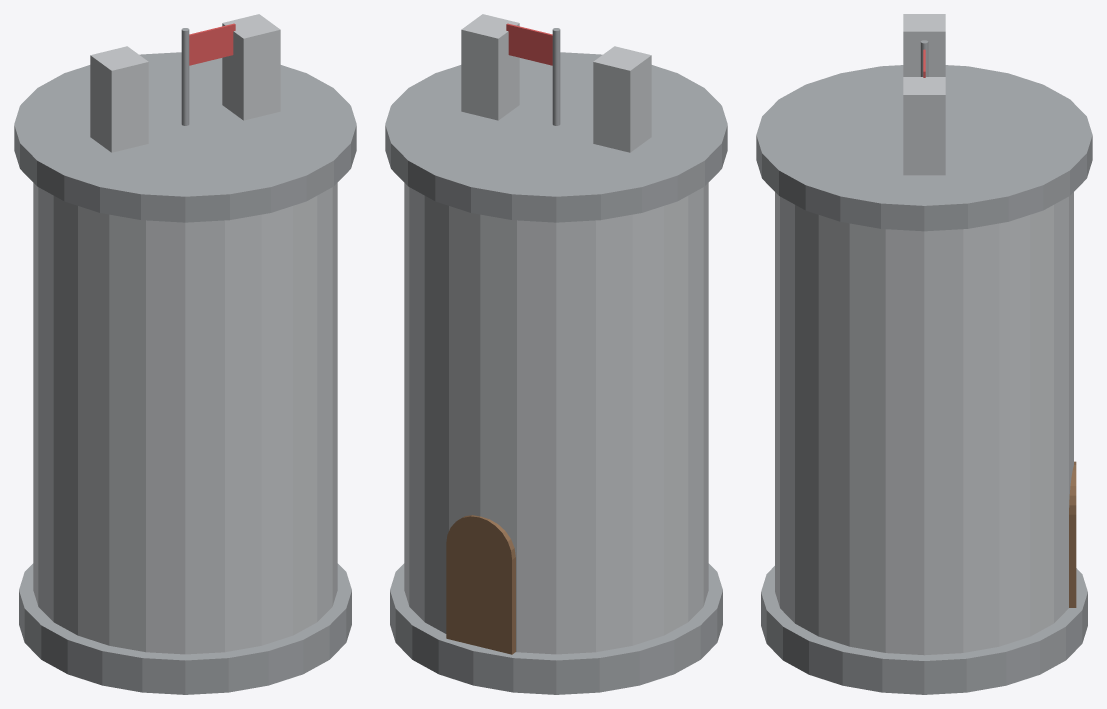
The model's file is tower.glb.
The picture shows the model from 3 angles, left to right: view 1: azimuth 30°, elevation 25°; view 2: azimuth 150°, elevation 25°; view 3: azimuth 270°, elevation 25°; orthographic projection.
Parts seen in each view (by area): view 1: tower_body, tower_cap, tower_base, prong_left, prong_right, flag, flagpole; view 2: tower_body, tower_cap, tower_base, prong_left, prong_right, door_body, door_arch, flag, flagpole; view 3: tower_body, tower_cap, tower_base, prong_right, prong_left, door_body.
Part boxes in pixels (bbox=[...]): tower_body: bbox=[33, 183, 337, 654]; tower_cap: bbox=[14, 52, 356, 222]; tower_base: bbox=[19, 563, 351, 694]; prong_left: bbox=[90, 46, 148, 152]; prong_right: bbox=[222, 14, 280, 120]; flag: bbox=[189, 23, 235, 65]; flagpole: bbox=[181, 28, 189, 125]; tower_body: bbox=[404, 183, 708, 654]; tower_cap: bbox=[385, 52, 727, 222]; tower_base: bbox=[390, 563, 722, 694]; prong_left: bbox=[593, 46, 651, 152]; prong_right: bbox=[461, 14, 519, 120]; door_body: bbox=[446, 546, 515, 654]; door_arch: bbox=[446, 515, 515, 587]; flag: bbox=[506, 23, 552, 65]; flagpole: bbox=[552, 28, 560, 125]; tower_body: bbox=[775, 192, 1073, 655]; tower_cap: bbox=[756, 65, 1092, 231]; tower_base: bbox=[761, 566, 1087, 694]; prong_right: bbox=[903, 77, 945, 175]; prong_left: bbox=[903, 14, 945, 76]; door_body: bbox=[1069, 514, 1076, 607].
Bounding box in the file's own units: 7.2 × 13.8 × 7.2.
